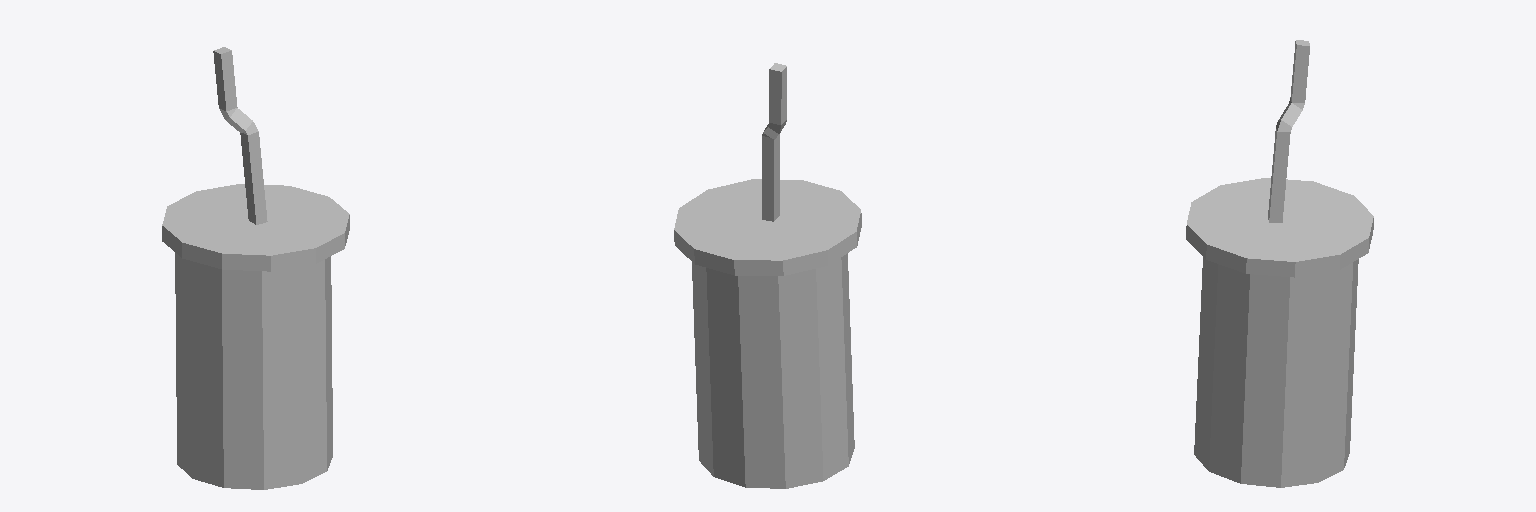
The model's file is cup.obj.
The picture shows the model from 3 angles: view 1: azimuth 30°, elevation 25°; view 2: azimuth 150°, elevation 25°; view 3: azimuth 270°, elevation 25°; orthographic projection.
Visible parts, largest first — view 1: group[number redacted], group[number redacted], group[number redacted]; view 2: group[number redacted], group[number redacted], group[number redacted]; view 3: group[number redacted], group[number redacted], group[number redacted].
Part boxes in pixels (left/top/right/bottom): group[number redacted]: left=175, top=253, right=332, bottom=489; group[number redacted]: left=162, top=184, right=349, bottom=271; group[number redacted]: left=213, top=47, right=267, bottom=224; group[number redacted]: left=692, top=253, right=854, bottom=488; group[number redacted]: left=674, top=179, right=861, bottom=275; group[number redacted]: left=762, top=63, right=786, bottom=221; group[number redacted]: left=1194, top=257, right=1358, bottom=487; group[number redacted]: left=1186, top=178, right=1373, bottom=277; group[number redacted]: left=1268, top=40, right=1309, bottom=222.
Size of the model in its own units: 0.3924 by 0.9362 by 0.3927.